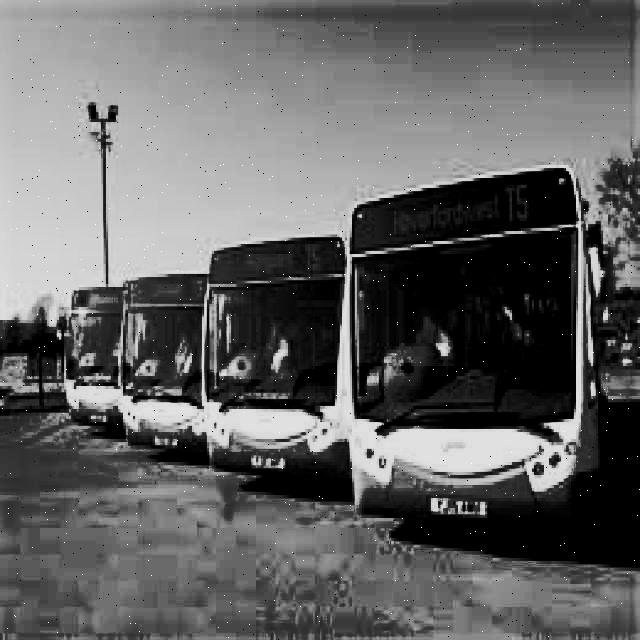Bus: (349, 168, 603, 528), (205, 224, 349, 481), (116, 273, 206, 460), (64, 285, 126, 429)
